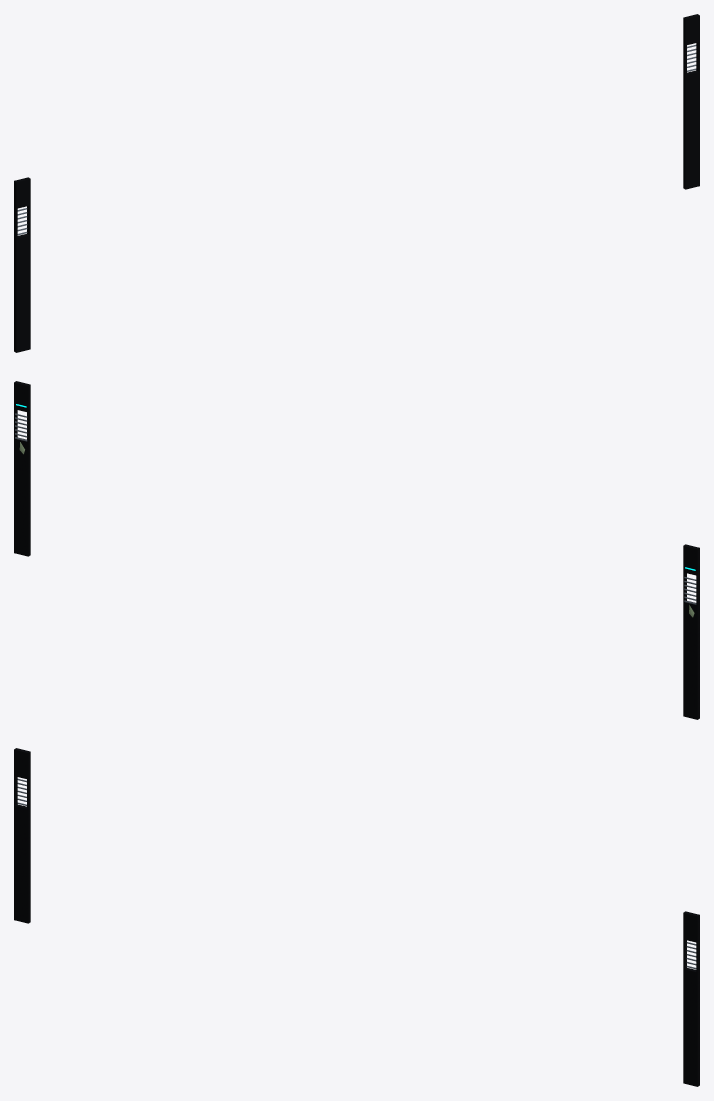
File: tt_corridor_services.glb
3 views of the same model, one above another, from view 1: azimuth 30°, elevation 25°; view 2: azimuth 150°, elevation 25°; view 3: azimuth 330°, elevation 25° (orthographic).
Parts seen in each view (by area): view 1: Service_EndCladding; view 2: Service_EndCladding; view 3: Service_EndCladding.
Boxes of the visible parts, x1=… form: Service_EndCladding: x1=14, y1=14, x2=699, y2=352; Service_EndCladding: x1=14, y1=381, x2=699, y2=719; Service_EndCladding: x1=14, y1=748, x2=699, y2=1086.
Size of what is drawn, in the model's own units: 23.5 by 5.6 by 0.178.
4 materials, 2 textured.
